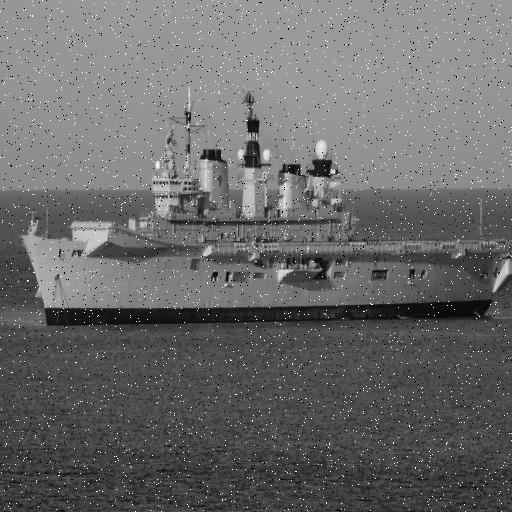Portanaves: (18, 82, 512, 332)
